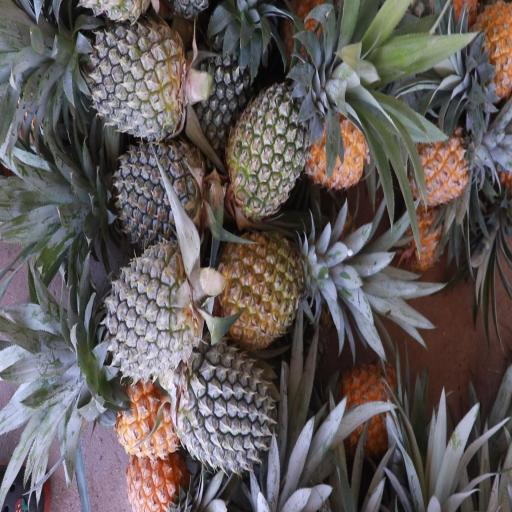------------------------------: (226, 98, 324, 221), (217, 245, 309, 358)
Pineapple - v8 v1: (104, 373, 177, 465), (309, 100, 373, 186), (339, 370, 394, 468), (413, 122, 474, 206), (126, 436, 188, 512), (470, 0, 510, 109)
